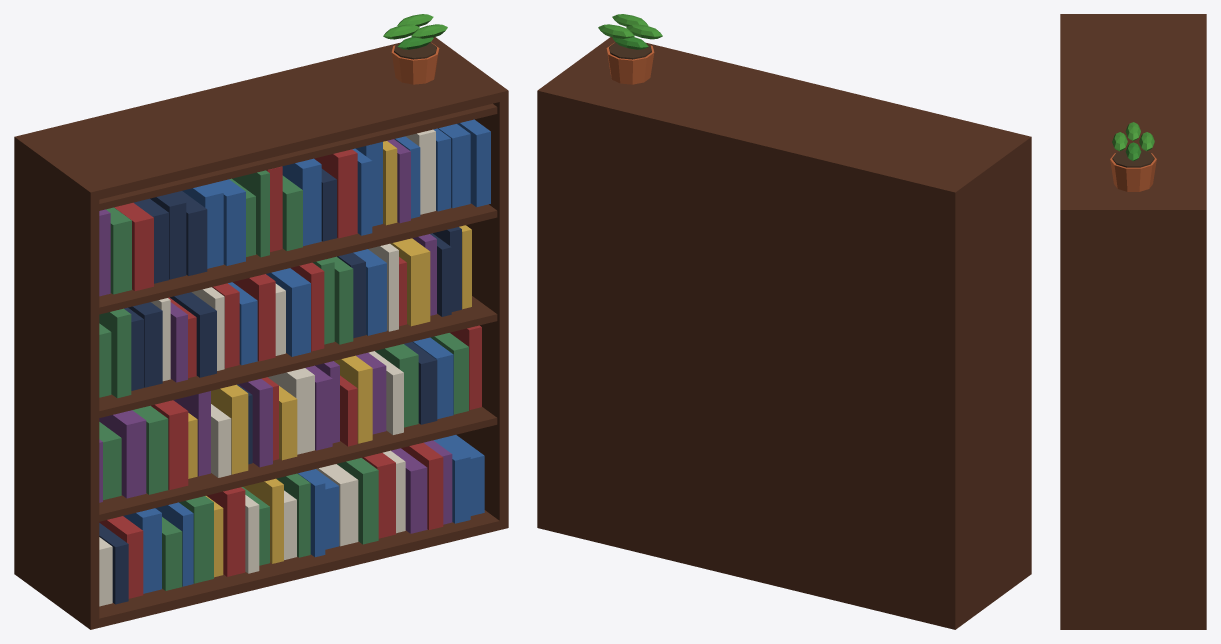
Rendered from bookcase.glb.
3 views of the same model, side by side, from view 1: azimuth 30°, elevation 25°; view 2: azimuth 150°, elevation 25°; view 3: azimuth 270°, elevation 25° (orthographic). The views are drawn at different scales.
Parts seen in each view (by area): view 1: bookcase; view 2: bookcase; view 3: bookcase.
Part boxes in pixels (box(x1,y1,x2,y2)): bookcase: box(14, 14, 508, 629); bookcase: box(537, 14, 1031, 629); bookcase: box(1060, 14, 1206, 629).
Size of the model in its own units: 1.9 by 2.13 by 0.6.
